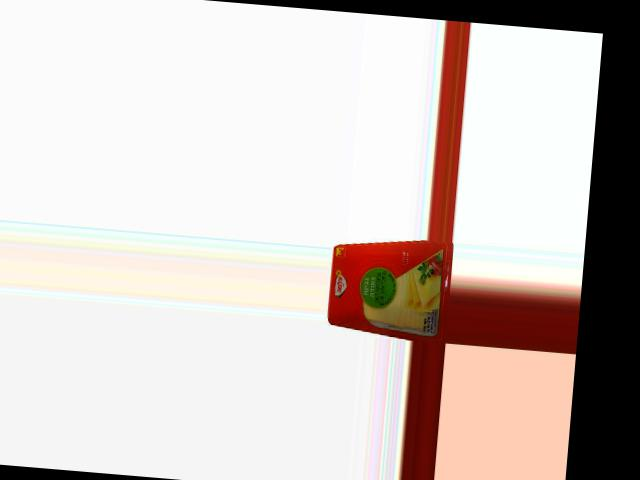cheese: (327, 231, 454, 341)
